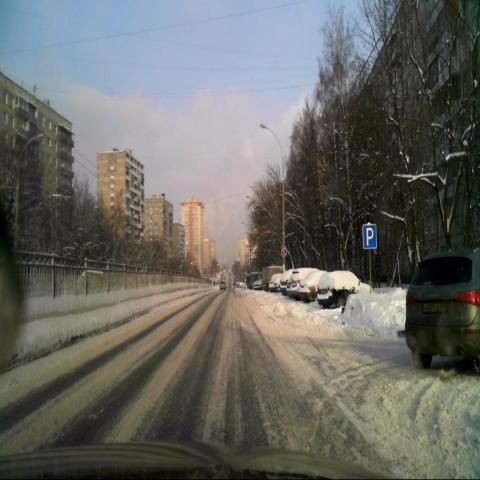6_4: (361, 223, 378, 250)
